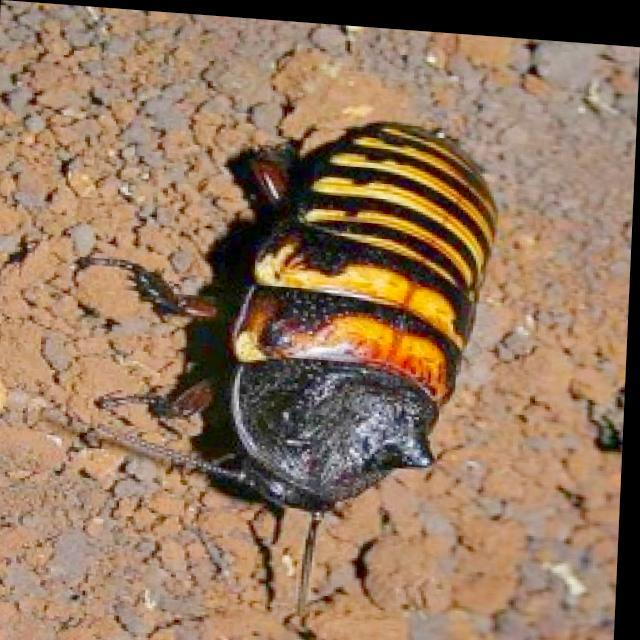cockroach: (65, 115, 504, 634)
